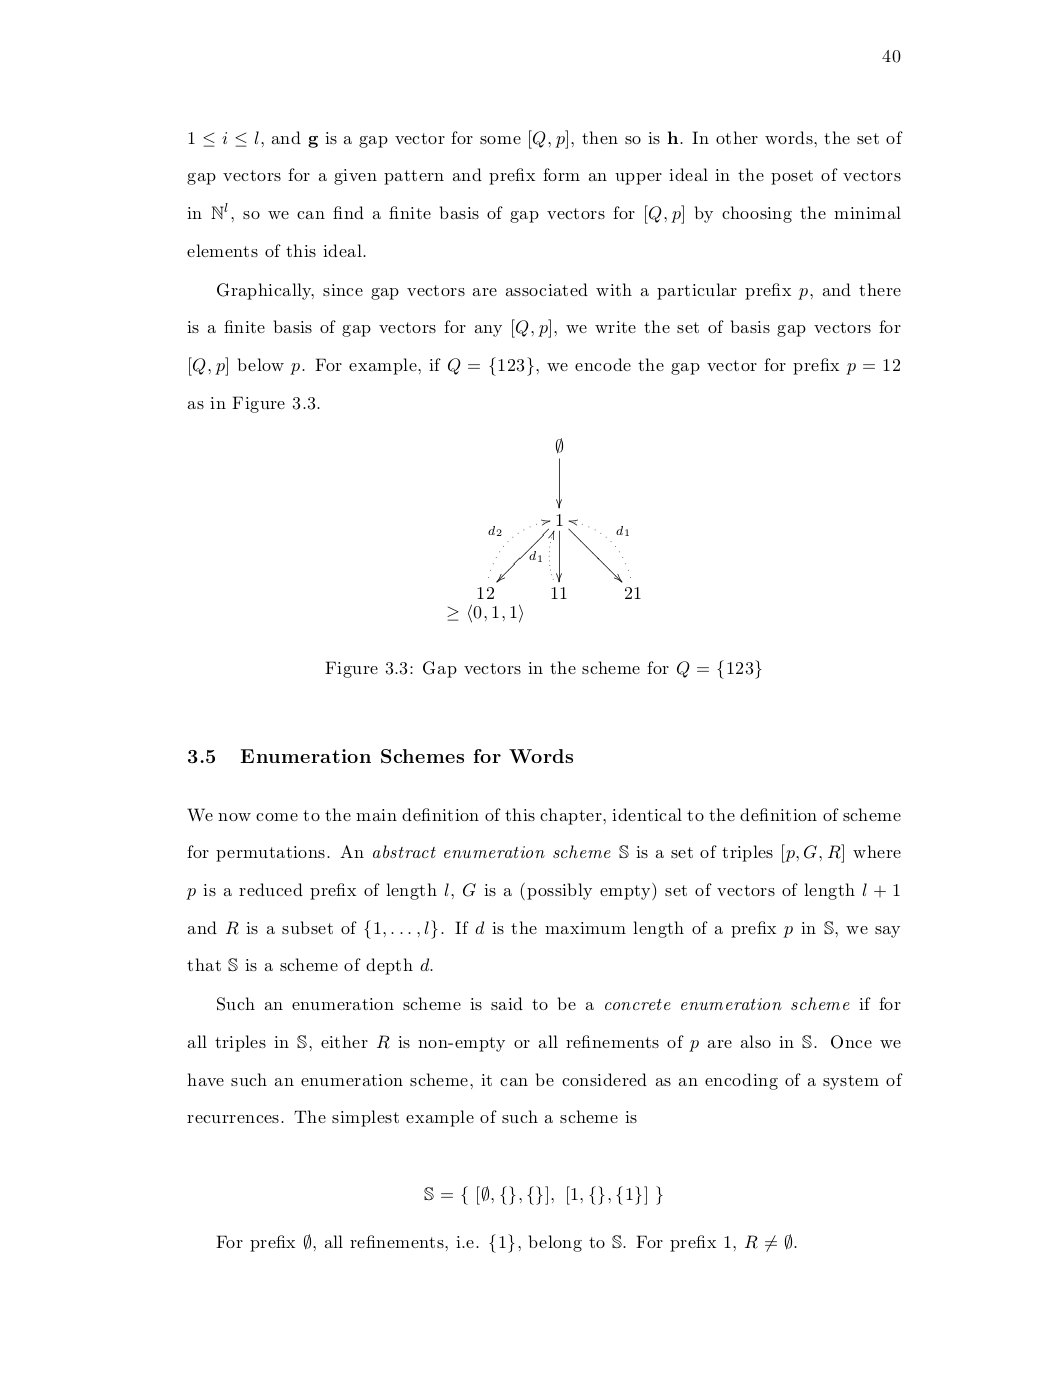figure: (447, 438, 640, 622)
formula: (424, 1185, 662, 1205)
